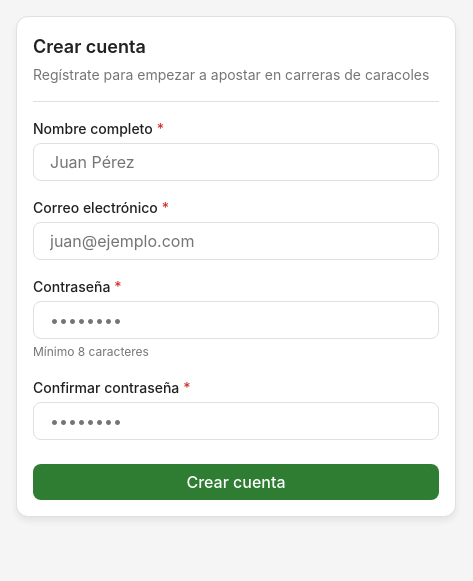
Test: RegisterForm › shows validation error for empty fields
The width and height of the screenshot is (473, 581).
Click the button "Crear cuenta" at (236, 482), box [33, 464, 439, 500]
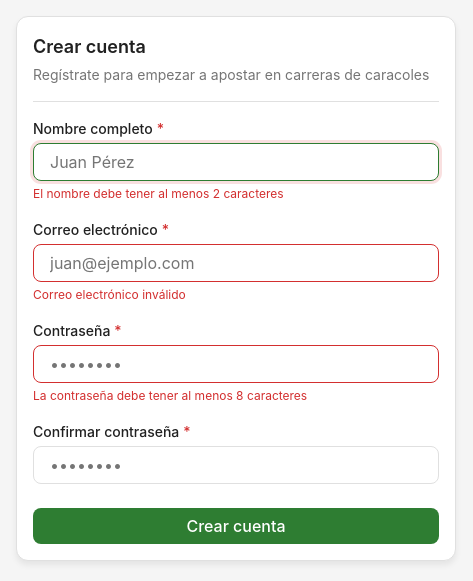
expect the text "El nombre debe tener al menos 2 caracteres" is shown: met, box [33, 186, 284, 201]
expect the text "Correo electrónico inválido" is shown: met, box [33, 287, 186, 302]
expect the text "La contraseña debe tener al menos 8 caracteres" is shown: met, box [33, 388, 307, 403]
